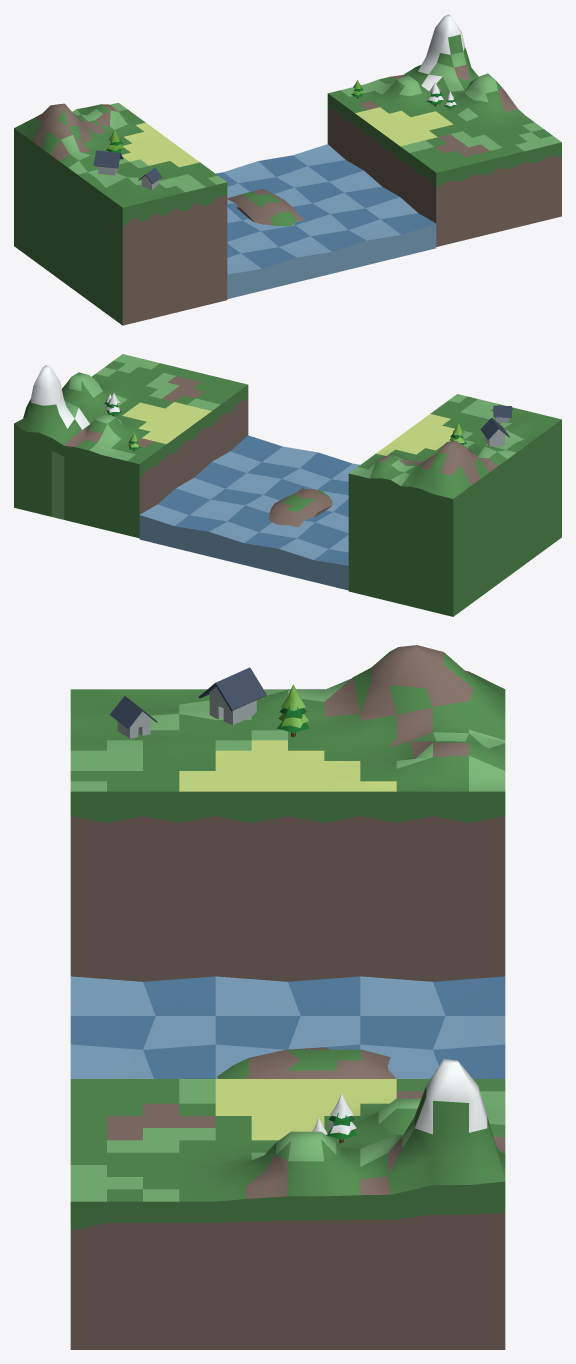
Rendered from LevelTerrain1.fbx.
The picture shows the model from 3 angles, top to bottom: view 1: azimuth 30°, elevation 25°; view 2: azimuth 150°, elevation 25°; view 3: azimuth 270°, elevation 25°; orthographic projection. The views are drawn at different scales.
Visible parts, largest first — view 1: Box063, Box065, Box064, Box066, Box069; view 2: Box063, Box065, Box064, Box066, Box069; view 3: Box063, Box065, Box064, Box066, Box069, Box070, Cone019, Cone020.
Part boxes in pixels (x1,y1,x2,y2): Box063: (14, 102, 227, 325); Box065: (327, 14, 561, 246); Box064: (216, 144, 436, 299); Box066: (227, 189, 305, 226); Box069: (93, 150, 123, 175); Box063: (348, 394, 561, 616); Box065: (14, 354, 248, 538); Box064: (139, 435, 359, 590); Box066: (269, 488, 332, 527); Box069: (480, 418, 509, 446); Box063: (70, 645, 505, 981); Box065: (70, 1058, 505, 1349); Box064: (70, 976, 505, 1078); Box066: (217, 1047, 395, 1078); Box069: (199, 667, 266, 724); Box070: (110, 696, 157, 738); Cone019: (277, 684, 309, 736); Cone020: (326, 1093, 356, 1143).
Size of the model in its own units: 840 by 277 by 360.
13 materials, 13 textured.
